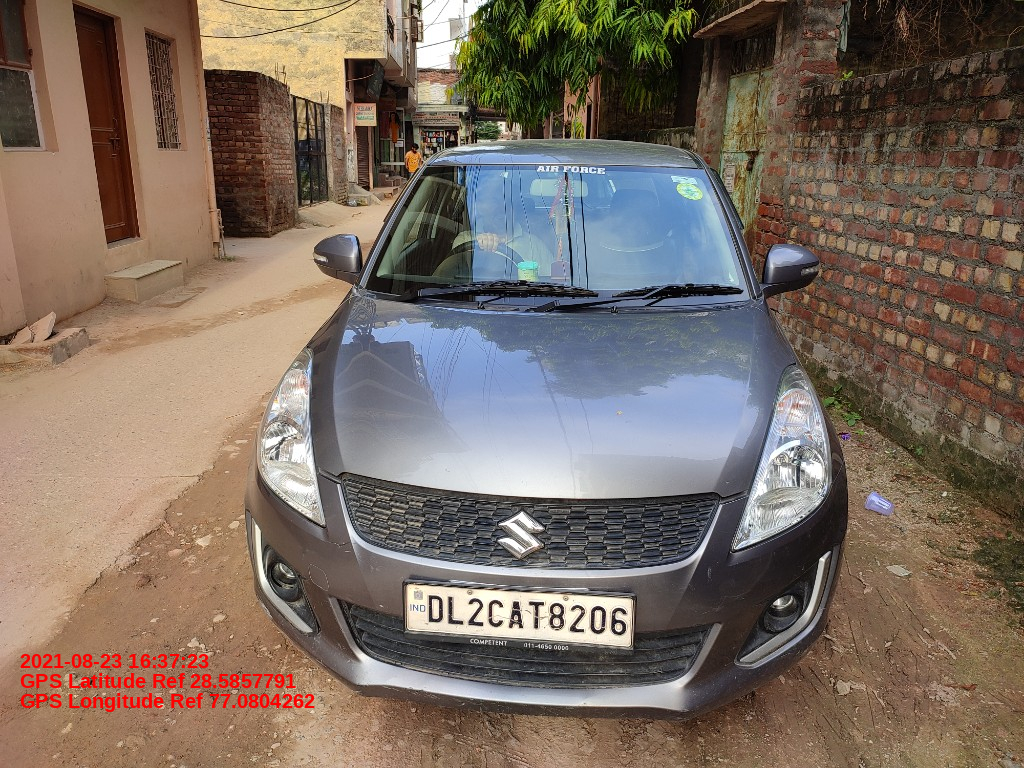Scratched: (724, 553, 785, 605), (706, 562, 720, 589)
